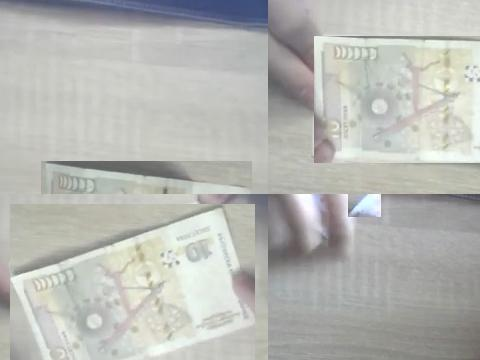10leva: (10, 204, 255, 360), (314, 36, 480, 160)
20leva: (348, 194, 380, 217)
